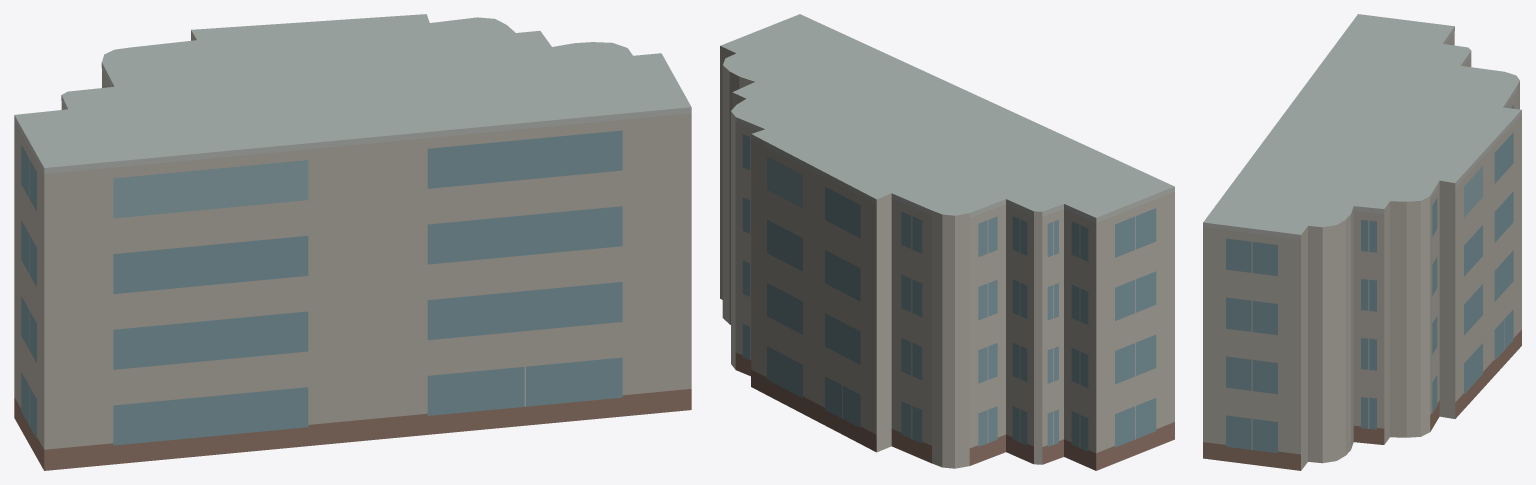
The model's file is survey-upis-32536435.glb.
The picture shows the model from 3 angles, left to right: view 1: azimuth 30°, elevation 25°; view 2: azimuth 150°, elevation 25°; view 3: azimuth 270°, elevation 25°; orthographic projection. The views are drawn at different scales.
Parts seen in each view (by area): view 1: survey-upis-32536435.tmp; view 2: survey-upis-32536435.tmp; view 3: survey-upis-32536435.tmp.
Boxes of the visible parts, bbox=[...] form: survey-upis-32536435.tmp: bbox=[14, 14, 691, 470]; survey-upis-32536435.tmp: bbox=[720, 14, 1174, 470]; survey-upis-32536435.tmp: bbox=[1203, 14, 1521, 470].
Bounding box in the file's own units: 24.5 × 12.2 × 14.94.
